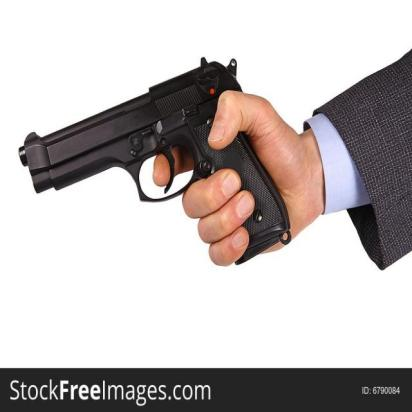Gun: (14, 49, 303, 271)
